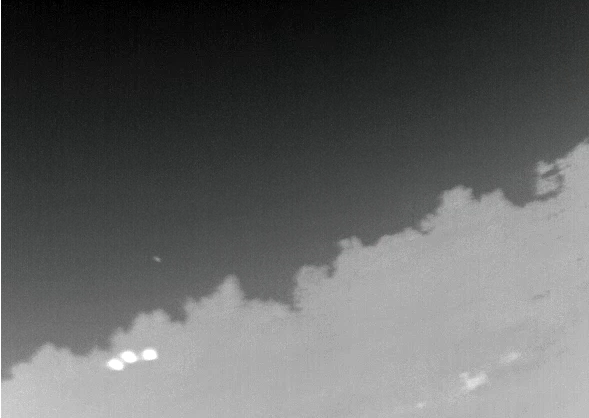dim target: (151, 255, 162, 264)
